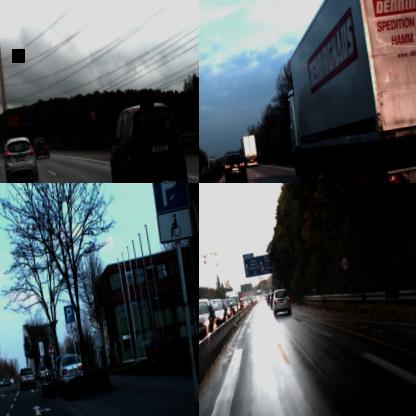priority at next intersection: (44, 339, 56, 354)
speed limit 100: (89, 110, 97, 122)
speed limit 60: (339, 254, 350, 272)
